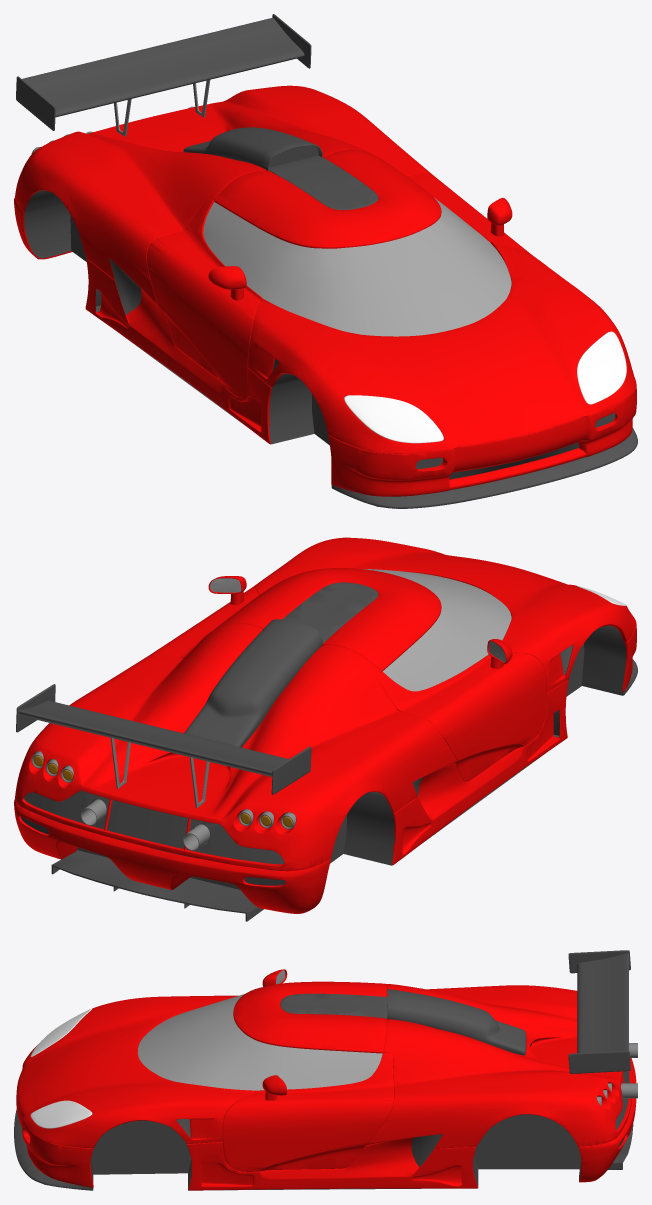
The model's file is Koenigsegg_Final.fbx.
The picture shows the model from 3 angles, top to bottom: view 1: azimuth 30°, elevation 25°; view 2: azimuth 150°, elevation 25°; view 3: azimuth 270°, elevation 25°; orthographic projection. The views are drawn at different scales.
Parts seen in each view (by area): view 1: Koenigsegg_Final; view 2: Koenigsegg_Final; view 3: Koenigsegg_Final.
Boxes of the visible parts, x1,y1,x2,y2 form: Koenigsegg_Final: (14, 14, 637, 508); Koenigsegg_Final: (14, 537, 637, 921); Koenigsegg_Final: (14, 950, 637, 1190).
Size of the model in its own units: 131 by 70.29 by 284.
